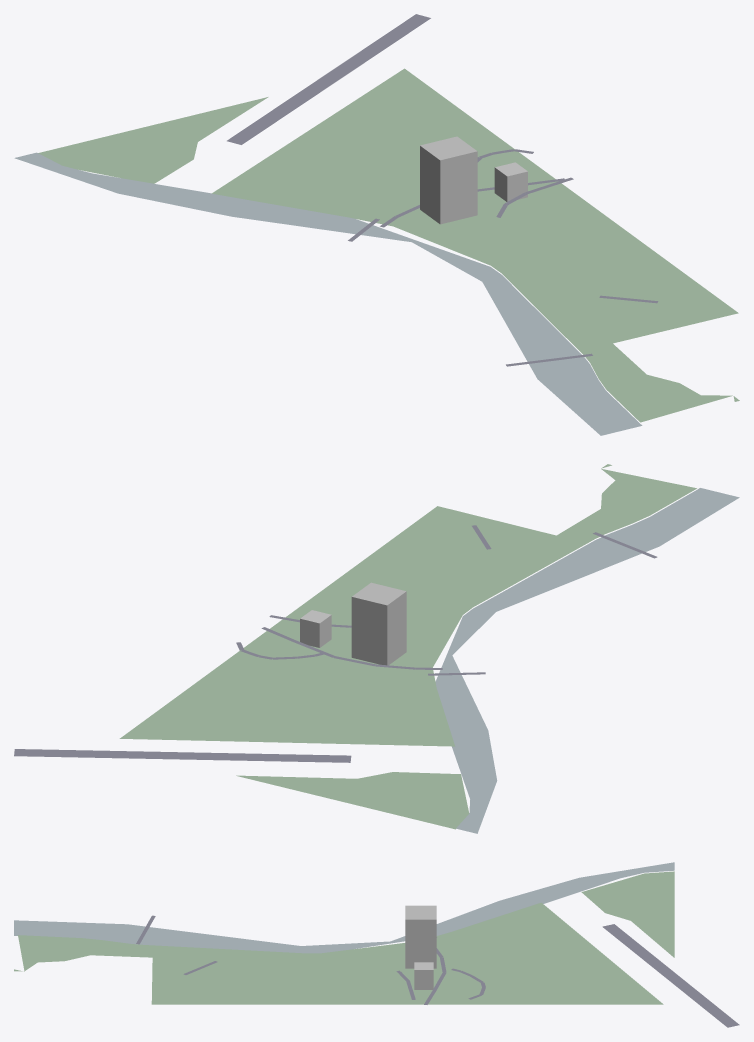
The model's file is 100_88_mid.glb.
The picture shows the model from 3 angles, top to bottom: view 1: azimuth 30°, elevation 25°; view 2: azimuth 150°, elevation 25°; view 3: azimuth 270°, elevation 25°; orthographic projection. The views are drawn at different scales.
Size of the model in its own units: 302 by 42.33 by 549.
